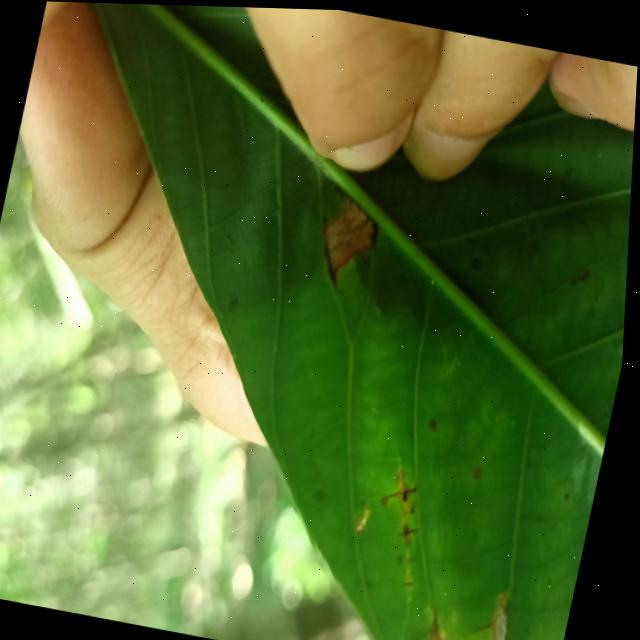Leaf-Blight: (317, 189, 384, 278)
